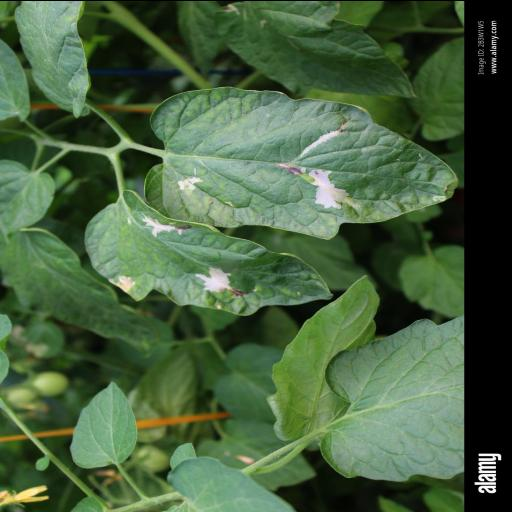Healthy: (70, 380, 142, 468)
Leaf Miner: (134, 82, 464, 240), (80, 186, 336, 318)
